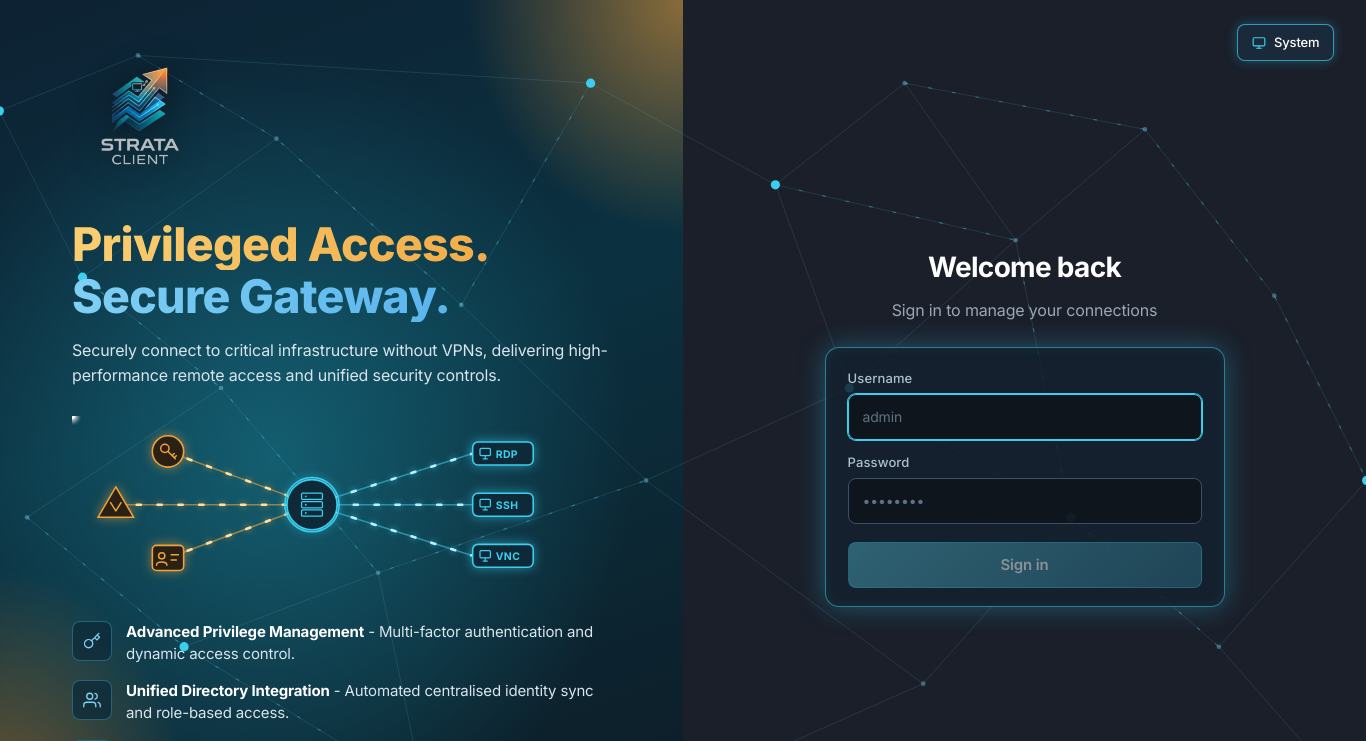
it: Login page › enables button when fields are filled
Type "testuser" into the field with placeholder "admin" at point(1024, 417), box [848,394,1202,440]
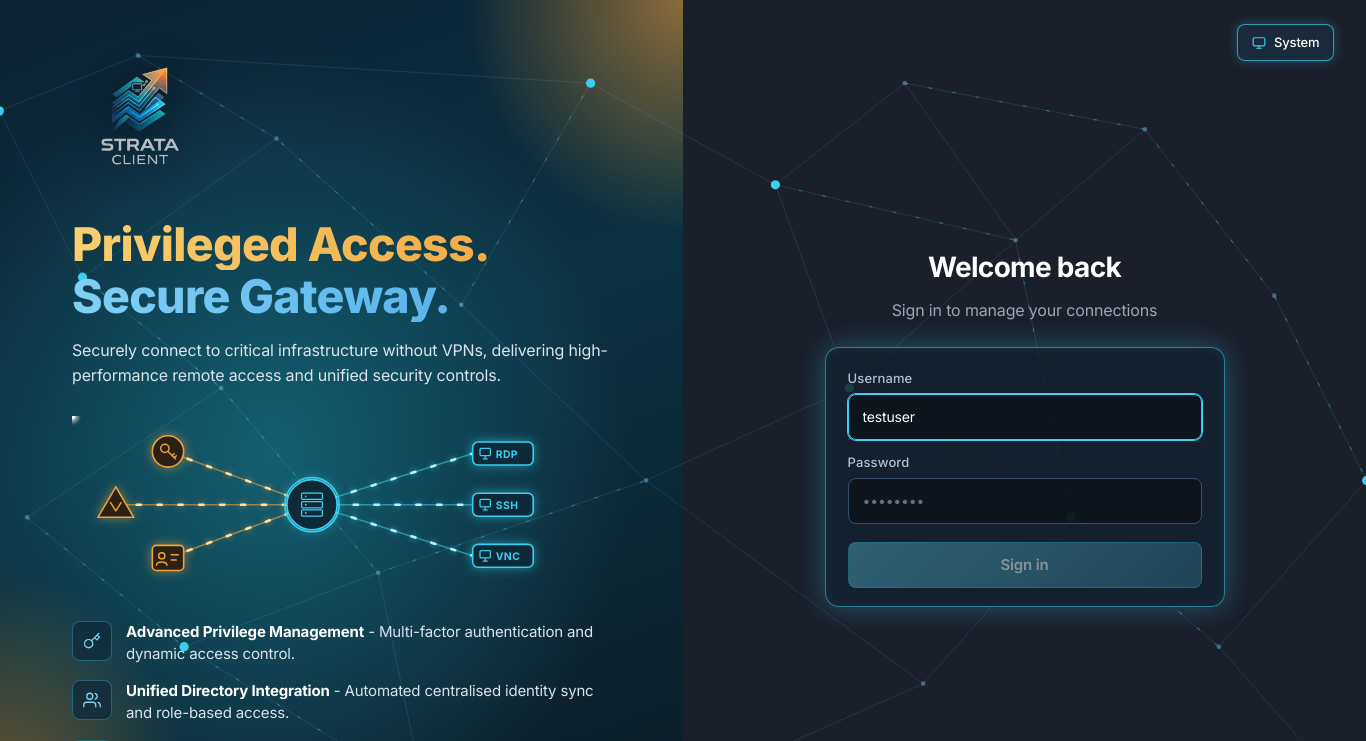
Type "testpass" into the password field with placeholder "••••••••" at point(1024, 501), box [848,478,1202,524]
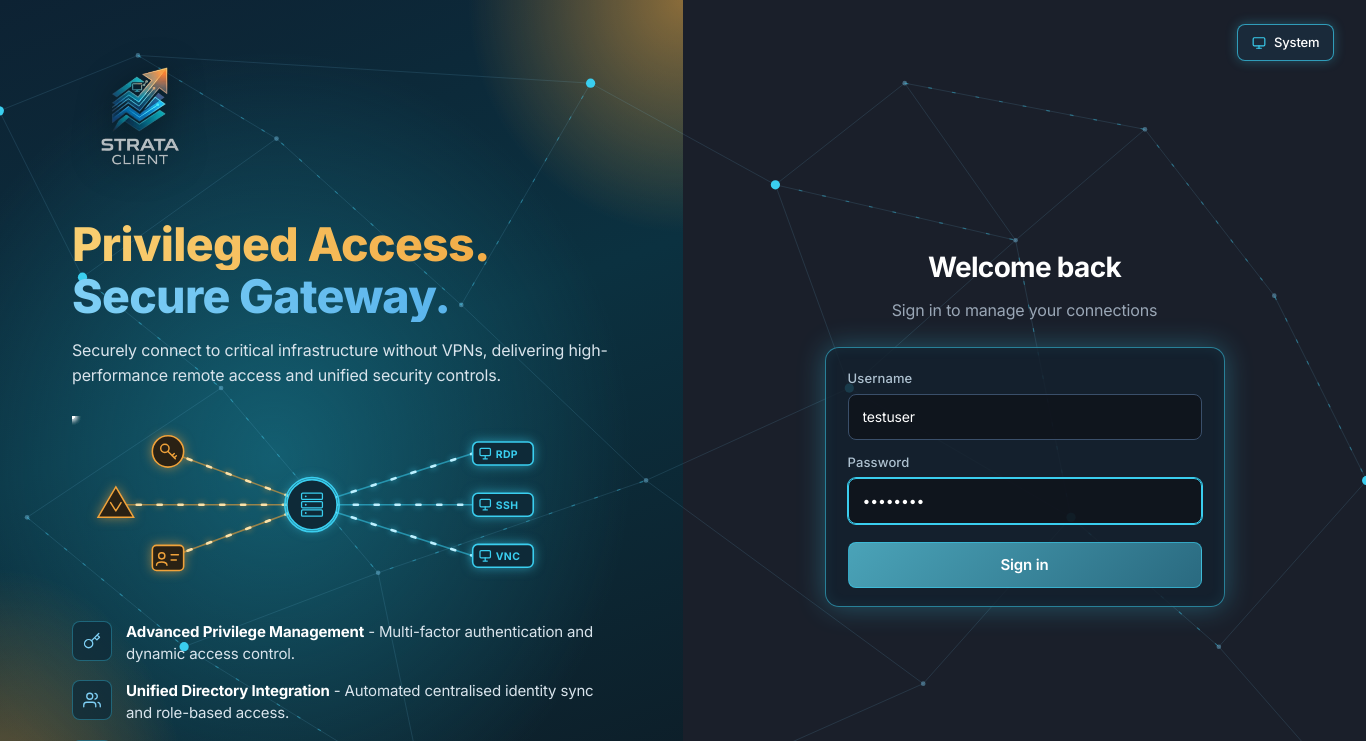
Check: the button "Sign in" is enabled, box [848,542,1202,588]
